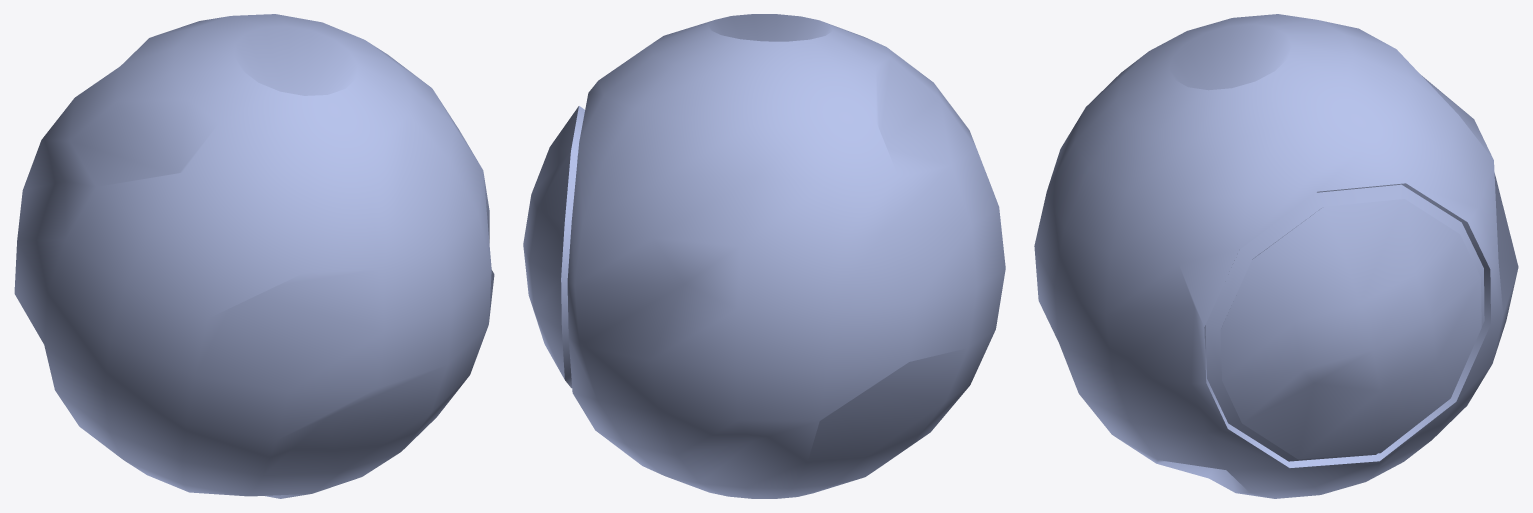
The model's file is EsferaROta3.fbx.
The picture shows the model from 3 angles, left to right: view 1: azimuth 30°, elevation 25°; view 2: azimuth 150°, elevation 25°; view 3: azimuth 270°, elevation 25°; orthographic projection.
Visible parts, largest first — view 1: Esfera_Vehiculo; view 2: Esfera_Vehiculo; view 3: Esfera_Vehiculo.
Part boxes in pixels (x1,y1,x2,y2): Esfera_Vehiculo: (14,14,494,498); Esfera_Vehiculo: (523,14,1005,498); Esfera_Vehiculo: (1034,14,1518,498).
Bounding box in the file's own units: 2.98 × 3.01 × 3.01.
